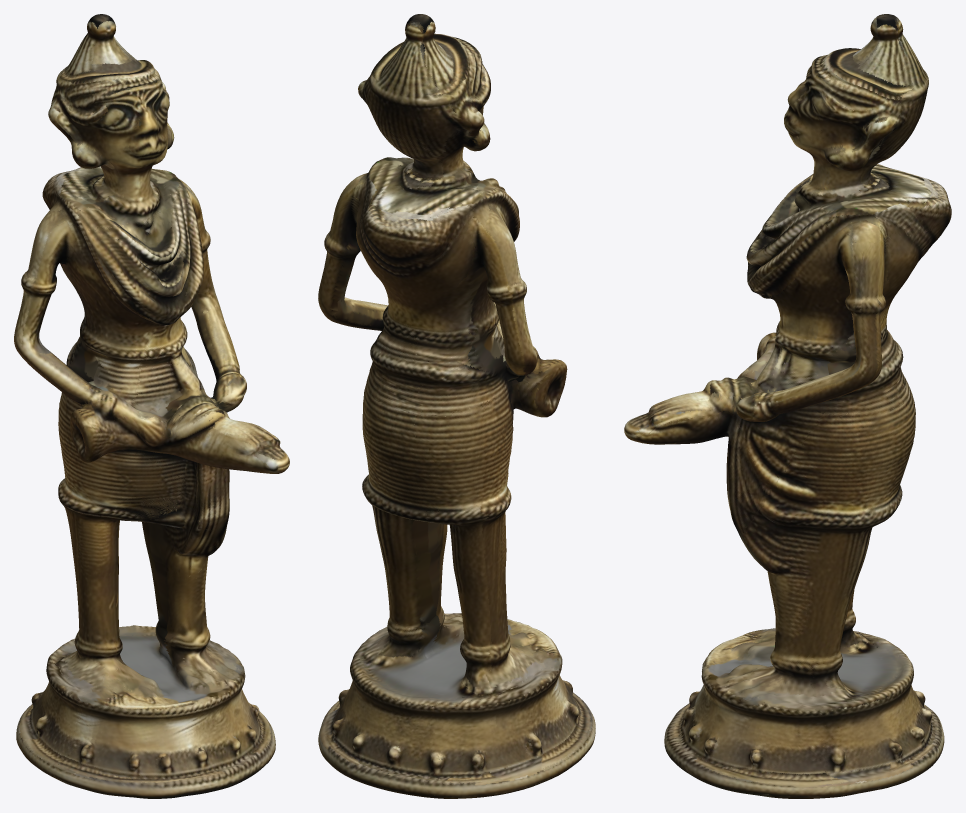
The model's file is dhokra.glb.
3 renders of one model, left to right at view 1: azimuth 30°, elevation 25°; view 2: azimuth 150°, elevation 25°; view 3: azimuth 270°, elevation 25°, orthographic. The views are drawn at different scales.
Visible parts, largest first — view 1: Mesh; view 2: Mesh; view 3: Mesh.
Part boxes in pixels (left/top/right/bottom): Mesh: left=14, top=14, right=289, bottom=798; Mesh: left=318, top=14, right=595, bottom=798; Mesh: left=624, top=14, right=951, bottom=798.
Size of the model in its own units: 0.3232 by 0.9892 by 0.404.
Materials: 1 (1 with a texture image).
